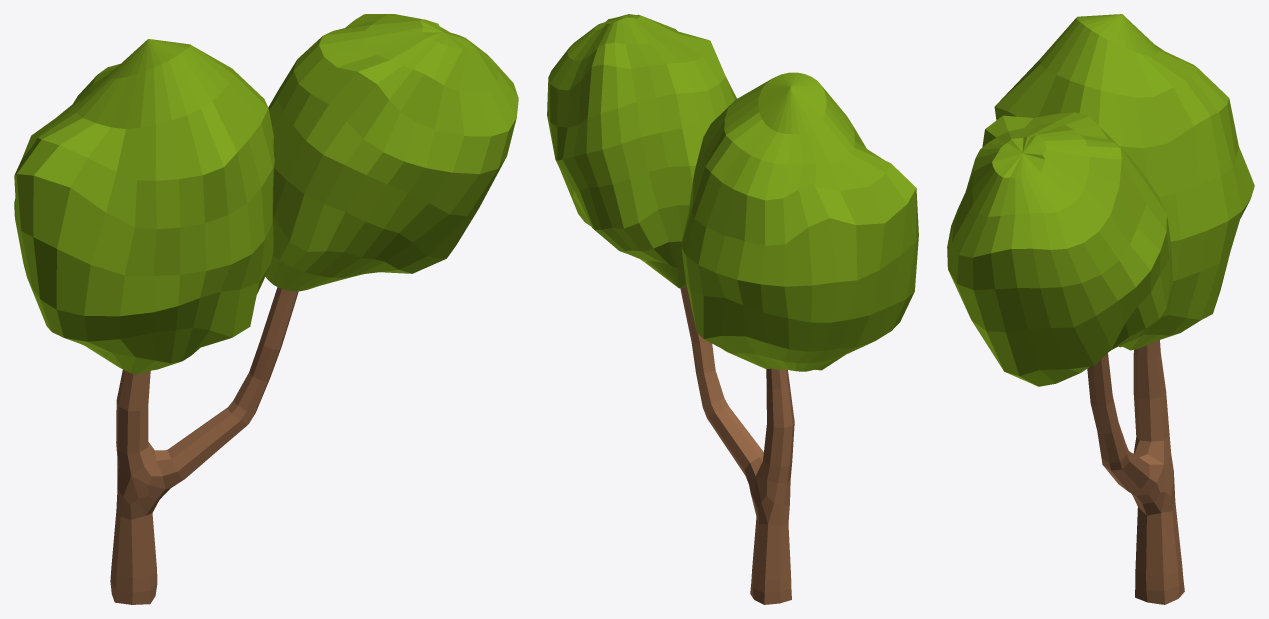
The model's file is Tree22113.fbx.
3 views of the same model, side by side, from view 1: azimuth 30°, elevation 25°; view 2: azimuth 150°, elevation 25°; view 3: azimuth 270°, elevation 25° (orthographic). The views are drawn at different scales.
Parts seen in each view (by area): view 1: TREE 12.001; view 2: TREE 12.001; view 3: TREE 12.001.
Boxes of the visible parts, x1,y1,x2,y2 form: TREE 12.001: (14,14,518,604); TREE 12.001: (547,14,918,604); TREE 12.001: (947,14,1254,604).
Bounding box in the file's own units: 140 × 172 × 82.8.
